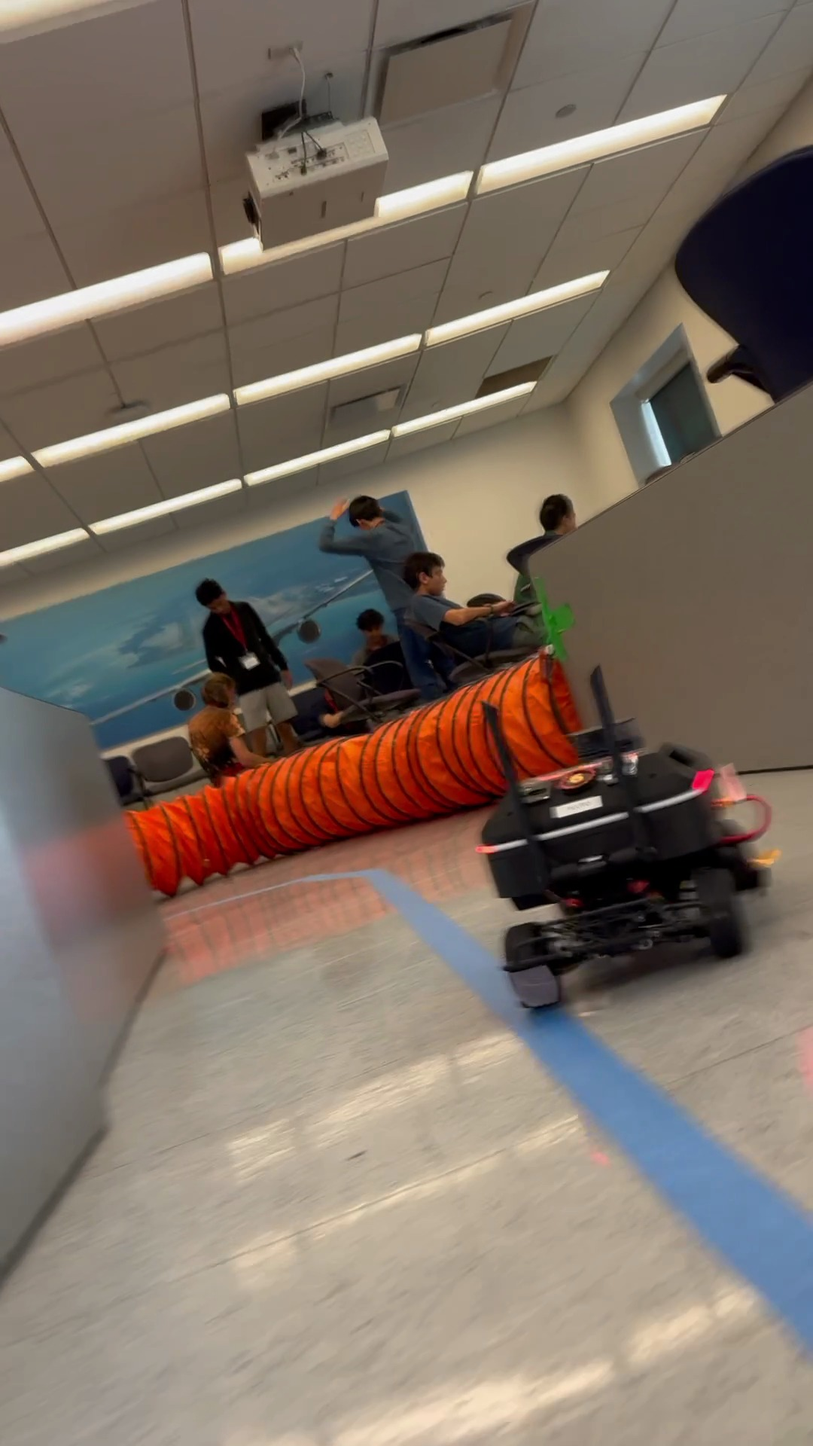racecar: (475, 657, 776, 1015)
